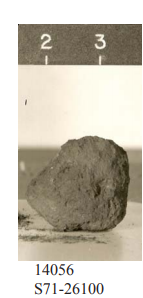Breccia: (30, 133, 130, 235)
